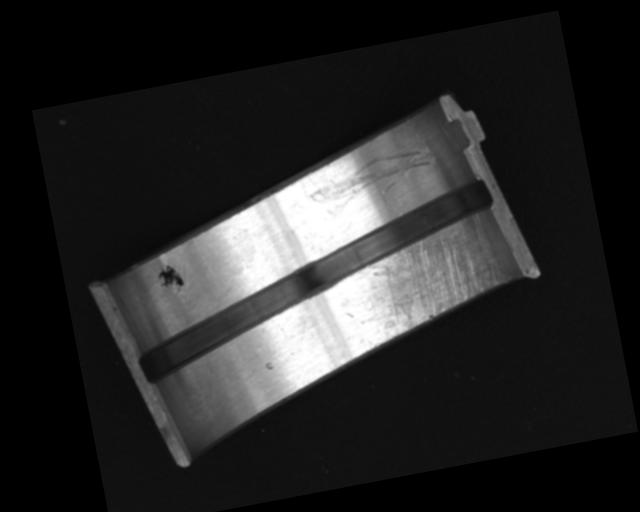blot: (155, 262, 185, 296)
bruise: (263, 359, 275, 371)
gap: (113, 178, 516, 387)
nick: (302, 144, 439, 217)
scratch: (343, 210, 515, 351)
